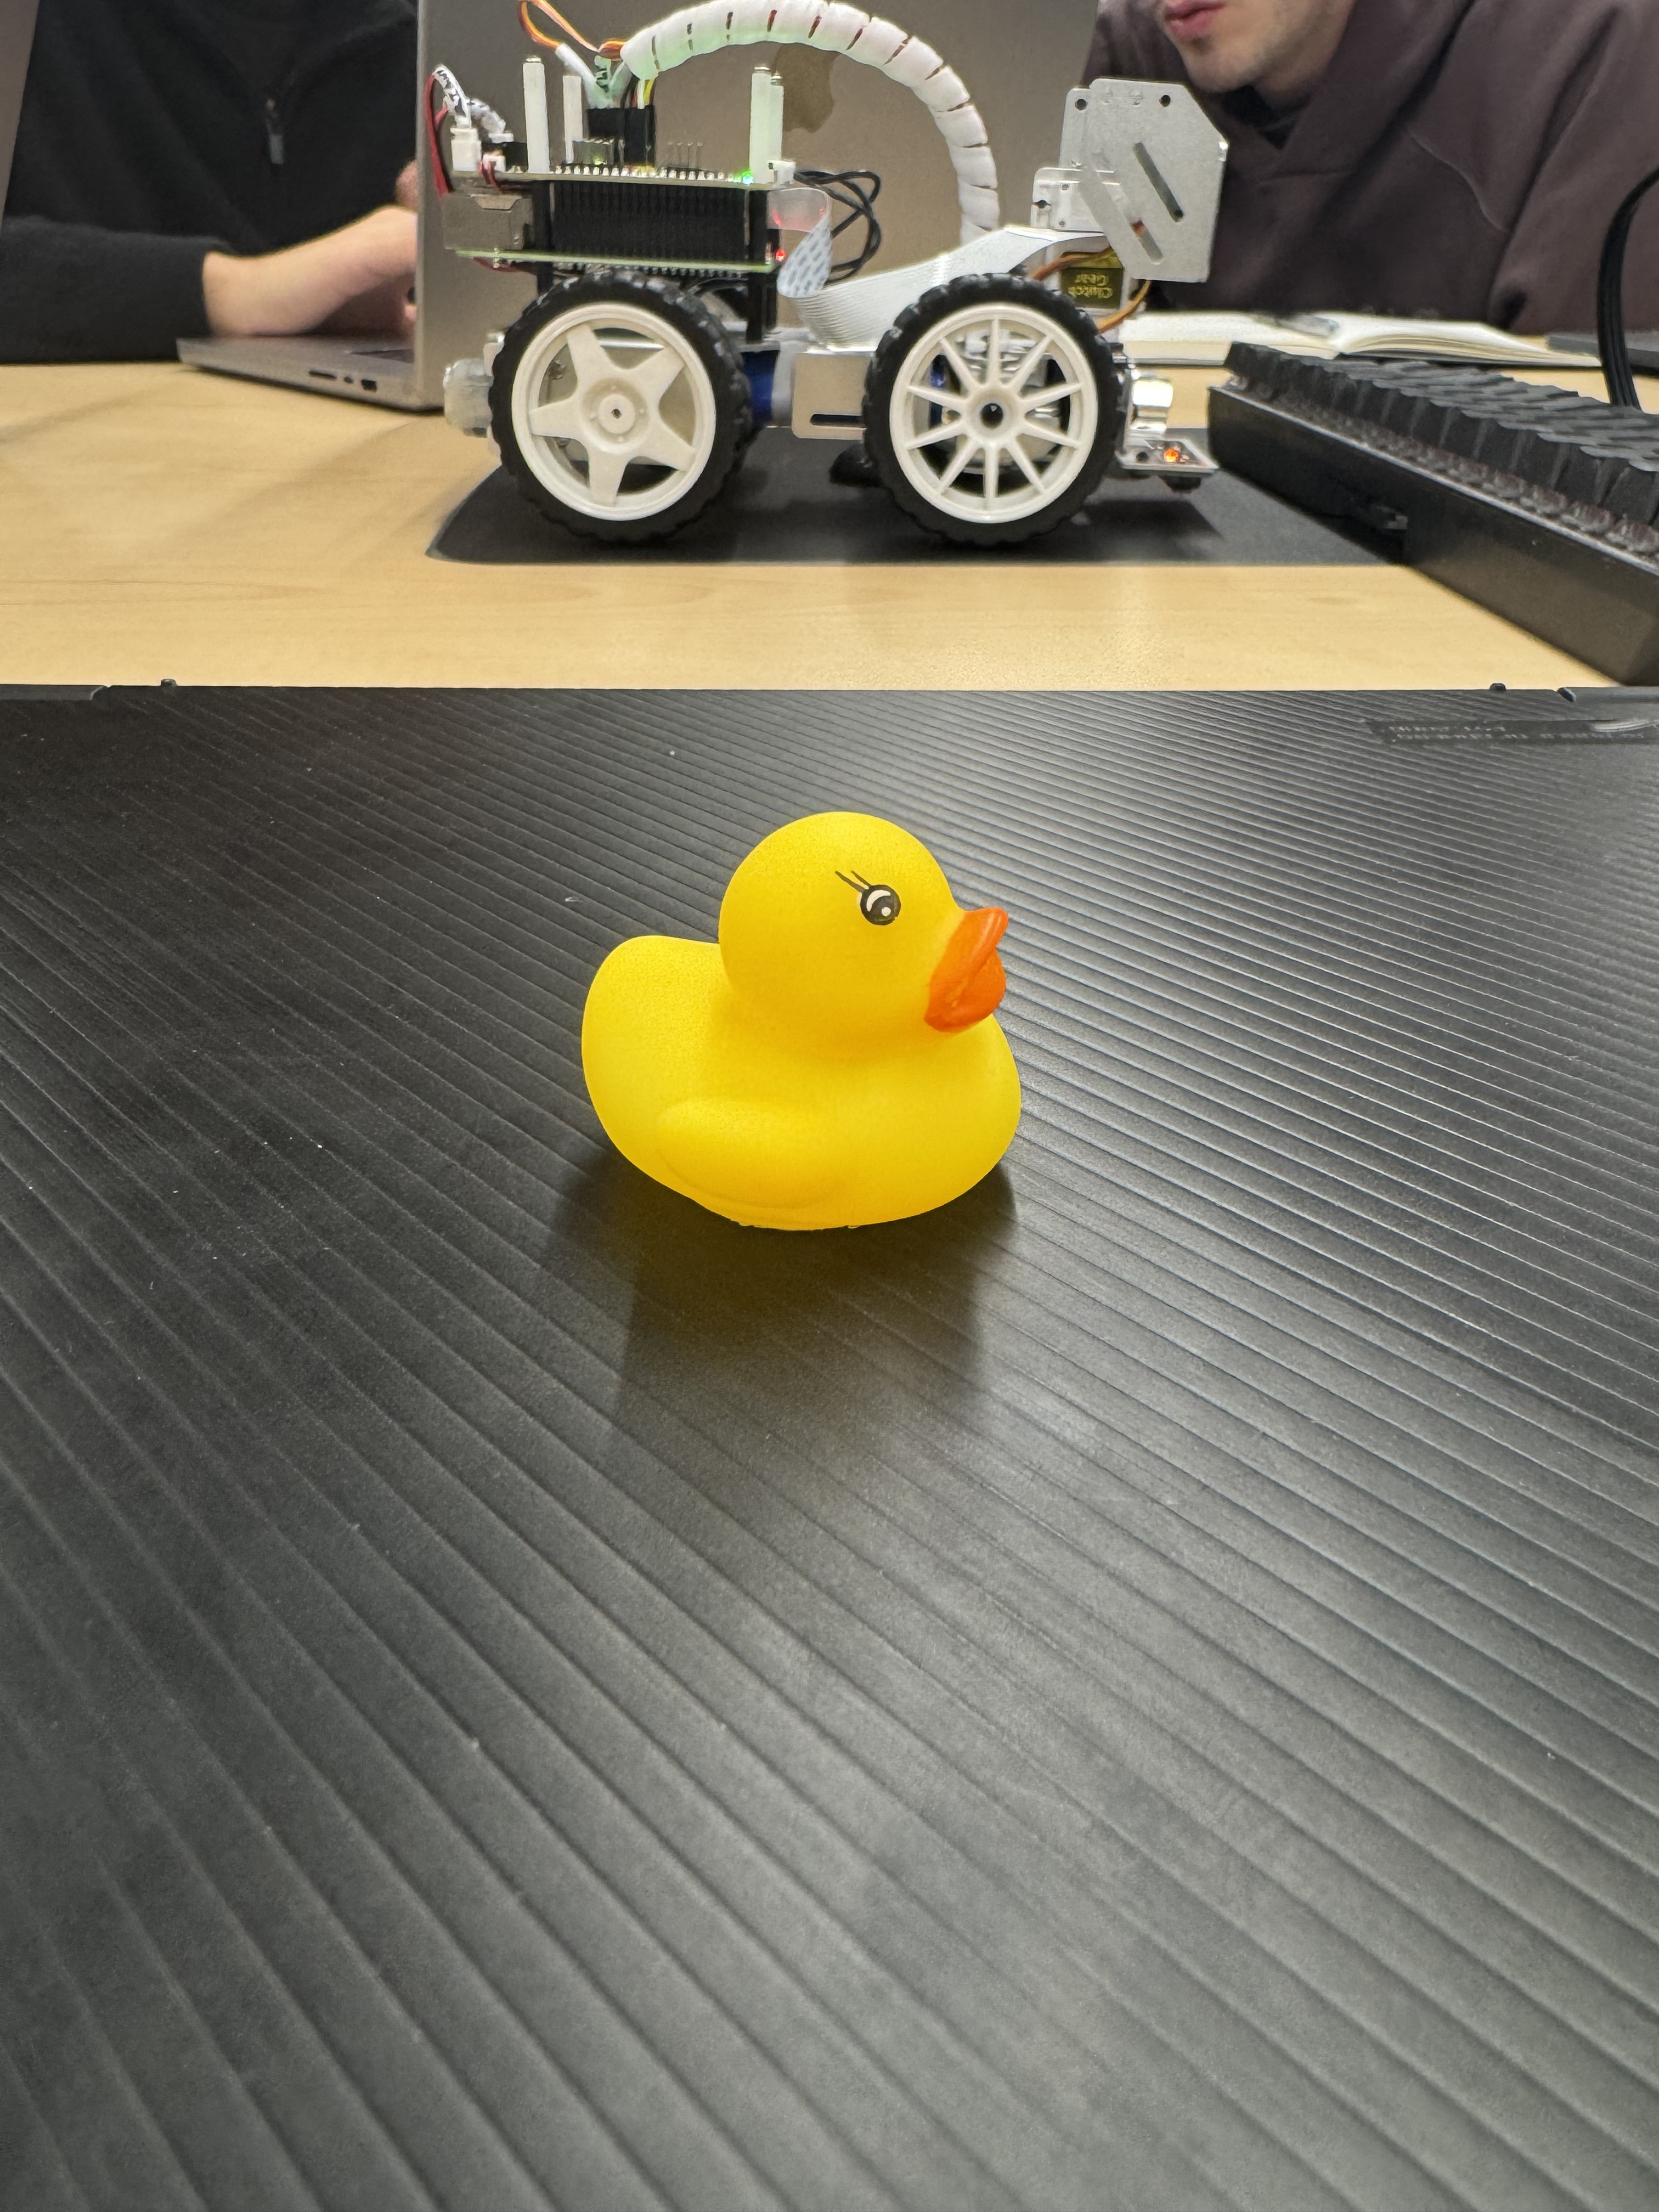duck_regular: (580, 792, 1044, 1240)
